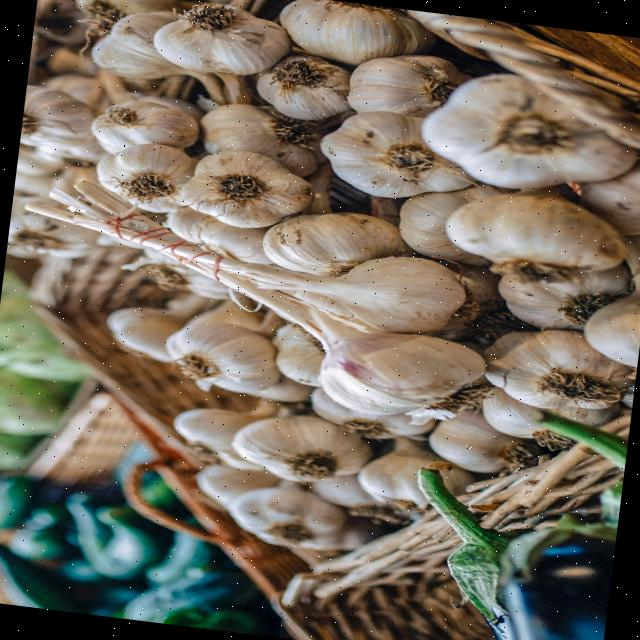garlic: (176, 255, 485, 414), (420, 73, 638, 187), (221, 255, 465, 333), (444, 189, 626, 281), (320, 110, 474, 197), (90, 9, 226, 104), (484, 329, 633, 408), (311, 348, 434, 437), (180, 149, 314, 227), (227, 486, 388, 550), (153, 2, 289, 74), (262, 211, 415, 275), (230, 414, 371, 481), (399, 182, 511, 265), (200, 102, 321, 176), (498, 264, 630, 328), (165, 321, 279, 392), (347, 54, 470, 116), (96, 142, 197, 212), (20, 84, 105, 162), (257, 54, 351, 119), (357, 436, 442, 506), (91, 99, 198, 152), (75, 0, 183, 35), (272, 323, 325, 385), (442, 466, 474, 493)
